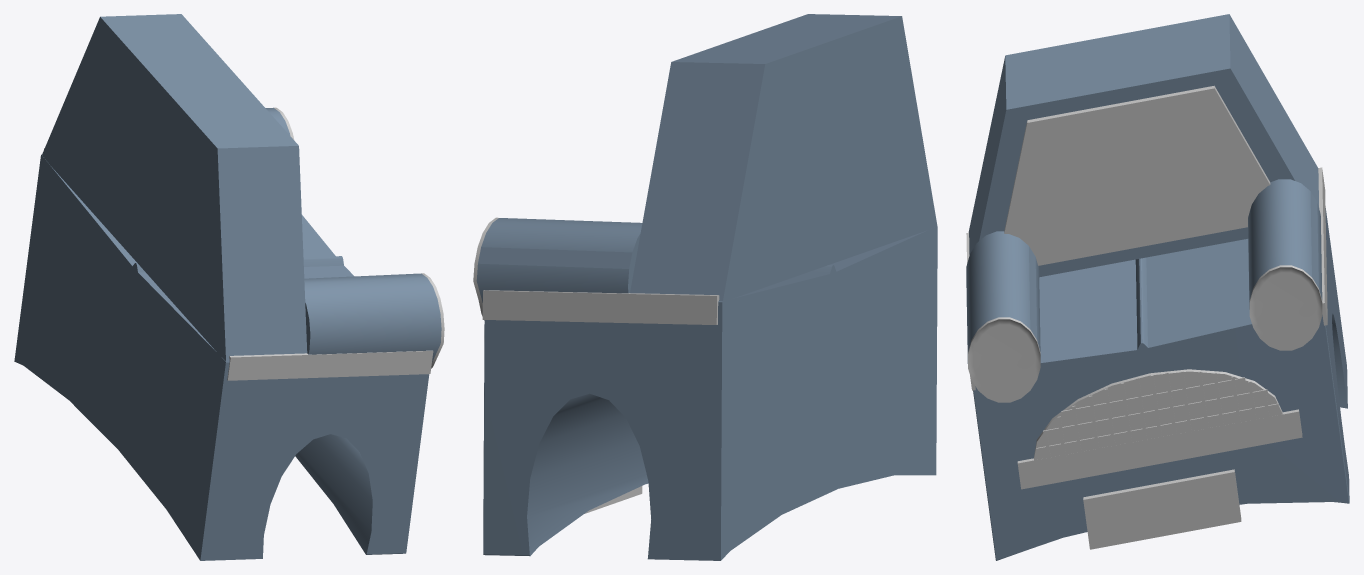
Rendered from carroPared.obj.
3 renders of one model, left to right at view 1: azimuth 30°, elevation 25°; view 2: azimuth 150°, elevation 25°; view 3: azimuth 270°, elevation 25°, orthographic. The views are drawn at different scales.
Parts seen in each view (by area): view 1: Carro; view 2: Carro; view 3: Carro.
Boxes of the visible parts, x1,y1,x2,y2 form: Carro: (14, 14, 444, 560); Carro: (473, 14, 937, 560); Carro: (966, 14, 1349, 560).
Bounding box in the file's own units: 1 × 2 × 1.5.
